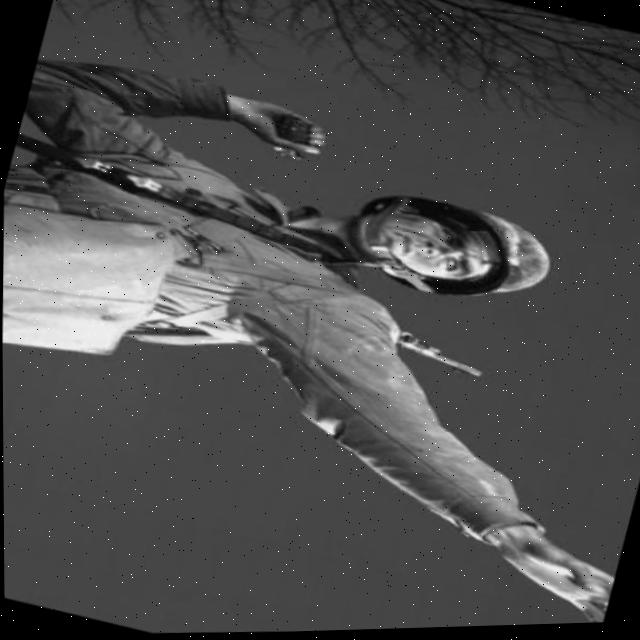grenade: (257, 108, 326, 171)
